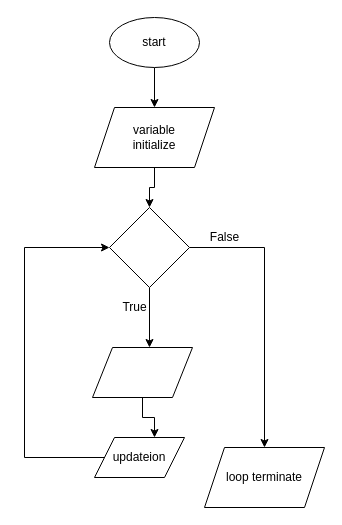
This 342x525 diagram has some shape labels left out. Each missing label, with the centre of its shape:
"condition" belongs at [149,247].
"statment of loop execute" belongs at [142,372].
